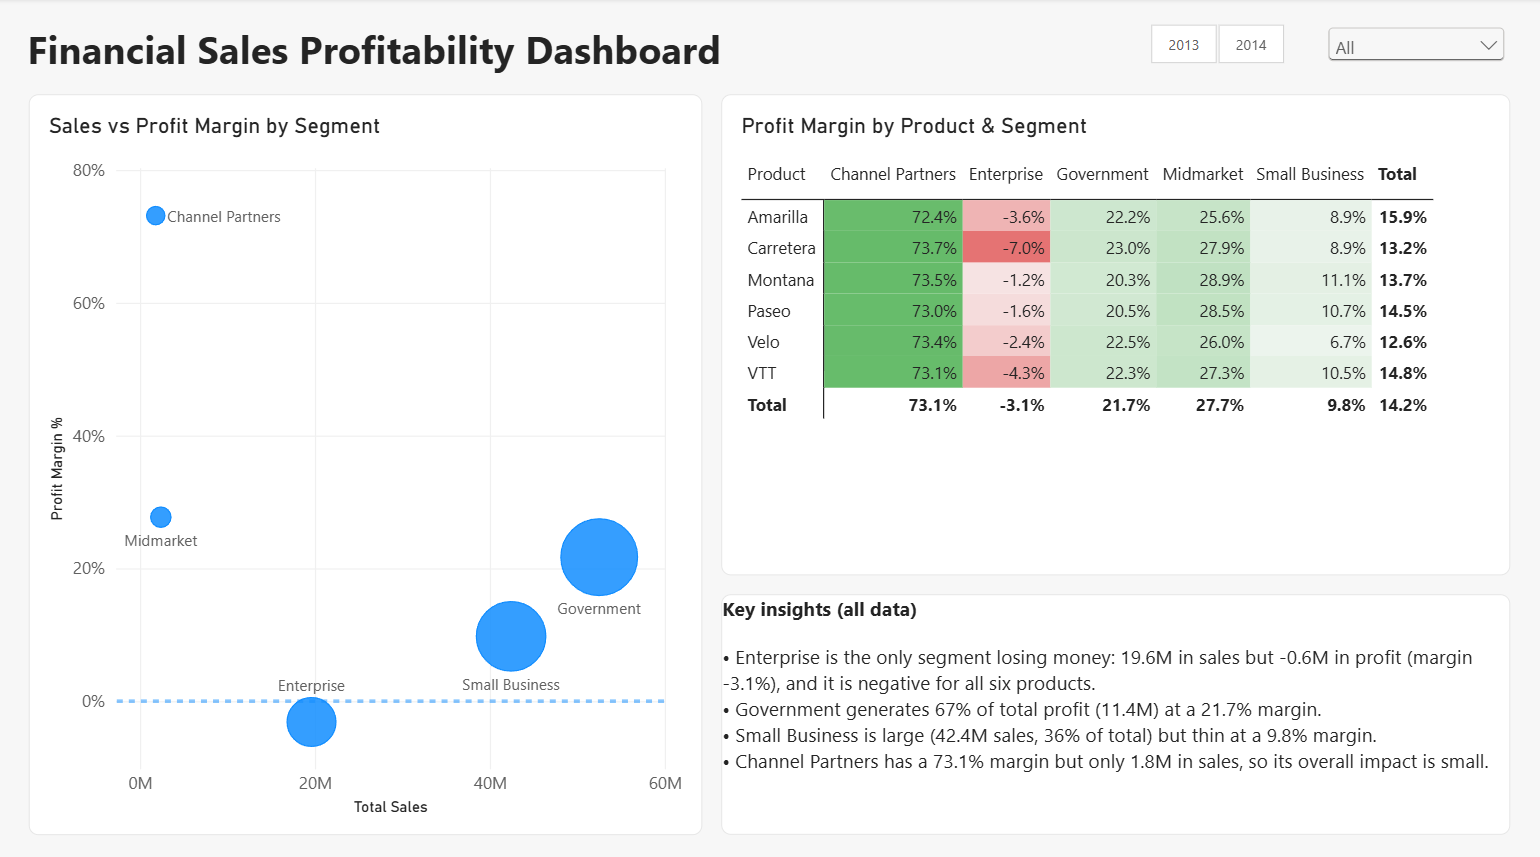

The page's visual inventory and layout, read from the dashboard file:
{"tool":"powerbi","page":{"name":"Segment & Product","canvas":[1280,720],"ordinal":2},"visuals":[{"type":"slicer","fields":{"Values":["Dim_Date.Year"]},"box":[936,20,150,36],"z":0},{"type":"slicer","fields":{"Values":["Dim_Country.Country"]},"box":[1100,20,156,36],"z":1},{"type":"textbox","box":[23.3,20.6,587.3,49.4],"z":2},{"type":"scatterChart","title":"Sales vs Profit Margin by Segment","fields":{"Category":["Dim_Segment.Segment"],"Size":["_Measures.Total Sales"],"X":["_Measures.Total Sales"],"Y":["_Measures.Profit Margin %"]},"box":[24,80,560,616],"z":3},{"type":"pivotTable","title":"Profit Margin by Product & Segment","fields":{"Columns":["Dim_Segment.Segment"],"Rows":["Dim_Product.Product"],"Values":["_Measures.Profit Margin %"]},"box":[600,80,656,400],"z":4},{"type":"textbox","box":[600,496,656,200],"z":5}]}

Visuals, with their boxes in screenshot pixels (x1, y1, x2, y2), scaled from the page's 1280x720 canvas onto the 1540x857 screenshot:
slicer - Dim_Date.Year: box=[1126, 24, 1307, 67]
slicer - Dim_Country.Country: box=[1323, 24, 1511, 67]
textbox: box=[28, 25, 735, 83]
"Sales vs Profit Margin by Segment" scatterChart: box=[29, 95, 703, 828]
"Profit Margin by Product & Segment" pivotTable: box=[722, 95, 1511, 571]
textbox: box=[722, 590, 1511, 828]
